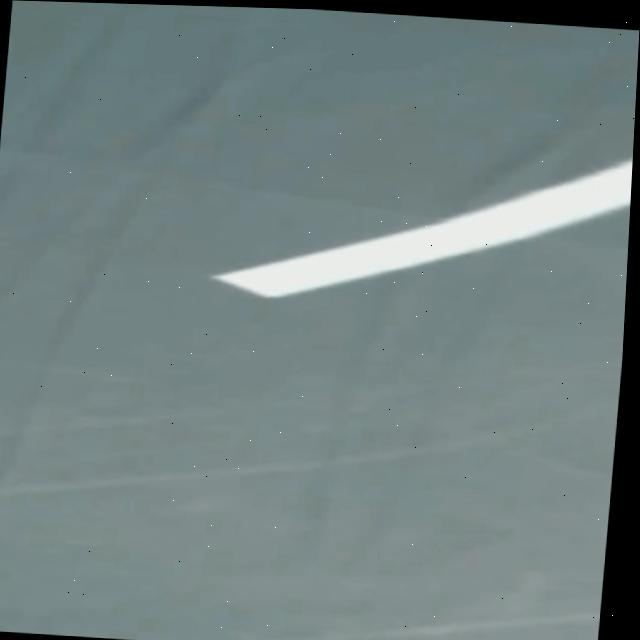center: (211, 157, 633, 296)
